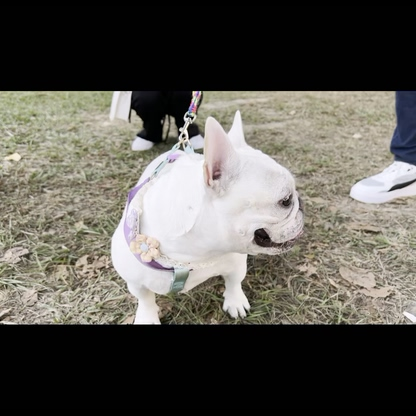bulldog: (107, 108, 306, 321)
